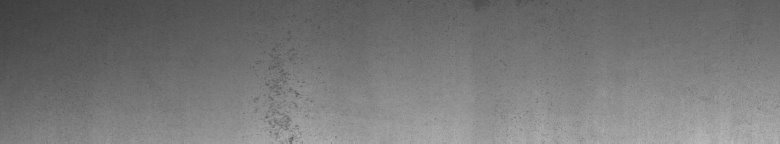ib: (249, 65, 308, 136)
